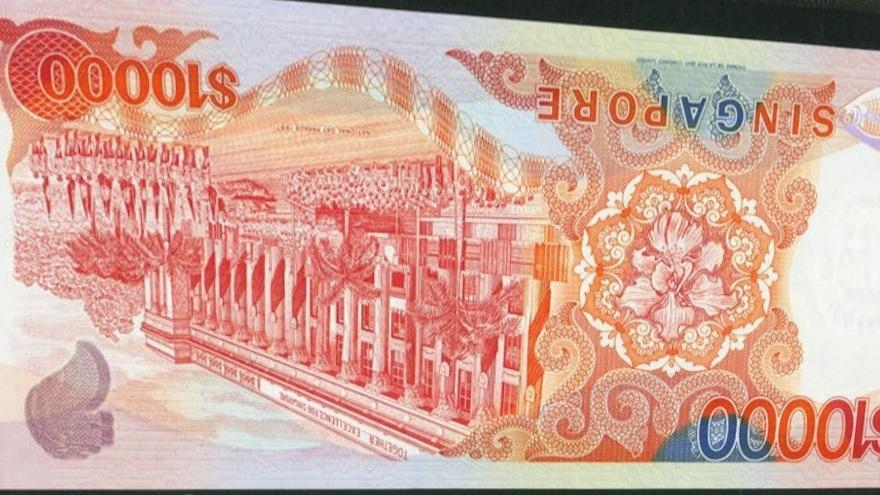10000SingaporeDollar: (0, 14, 880, 487)
